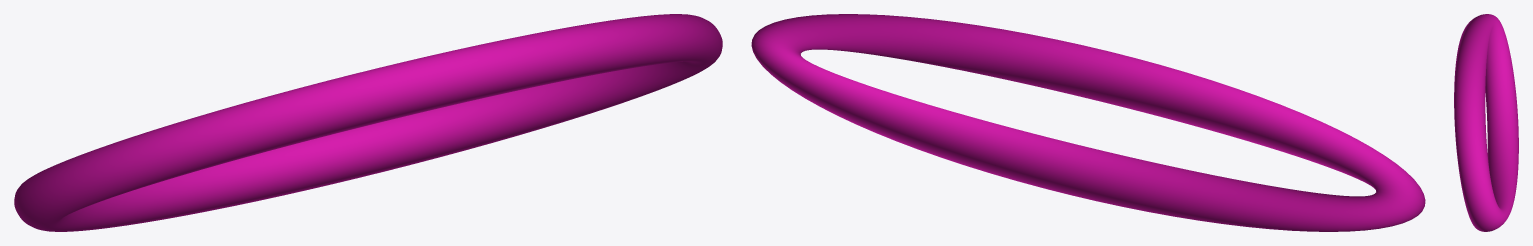
The model's file is zcollar-magenta-3d.glb.
3 views of the same model, side by side, from view 1: azimuth 30°, elevation 25°; view 2: azimuth 150°, elevation 25°; view 3: azimuth 270°, elevation 25° (orthographic). The views are drawn at different scales.
Visible parts, largest first — view 1: mesh_id38; view 2: mesh_id38; view 3: mesh_id38.
Boxes of the visible parts, x1=… form: mesh_id38: x1=14, y1=14, x2=722, y2=231; mesh_id38: x1=751, y1=14, x2=1425, y2=231; mesh_id38: x1=1454, y1=14, x2=1518, y2=231.
Bounding box in the file's own units: 0.3199 × 0.0551 × 0.0436.
1 material, 1 textured.
